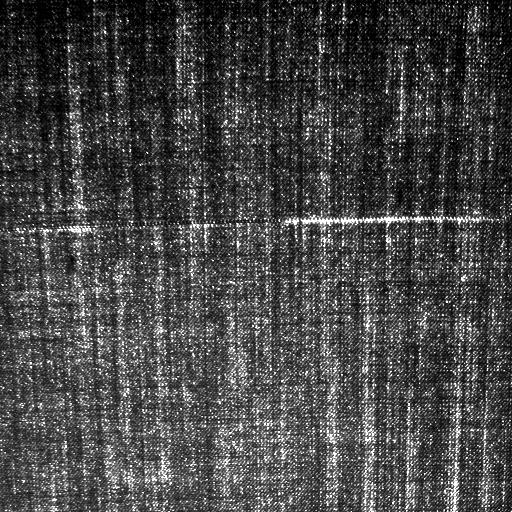fabric_broken_pick: (10, 215, 506, 235)
